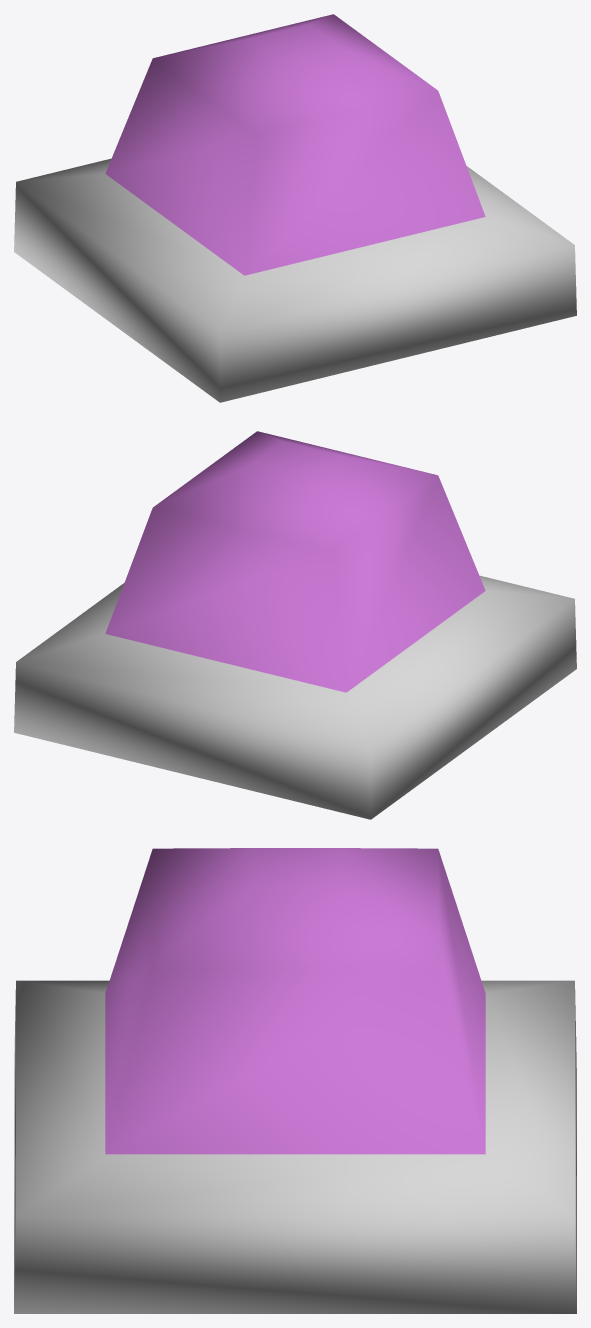
Rendered from timebomb.fbx.
3 renders of one model, top to bottom at view 1: azimuth 30°, elevation 25°; view 2: azimuth 150°, elevation 25°; view 3: azimuth 270°, elevation 25°, orthographic. The views are drawn at different scales.
Visible parts, largest first — view 1: wiper; view 2: wiper; view 3: wiper.
Boxes of the visible parts, x1,y1,x2,y2 form: wiper: (14, 14, 576, 402); wiper: (14, 431, 576, 819); wiper: (14, 848, 576, 1313).
Bounding box in the file's own units: 0.5715 × 0.3672 × 0.5715.
